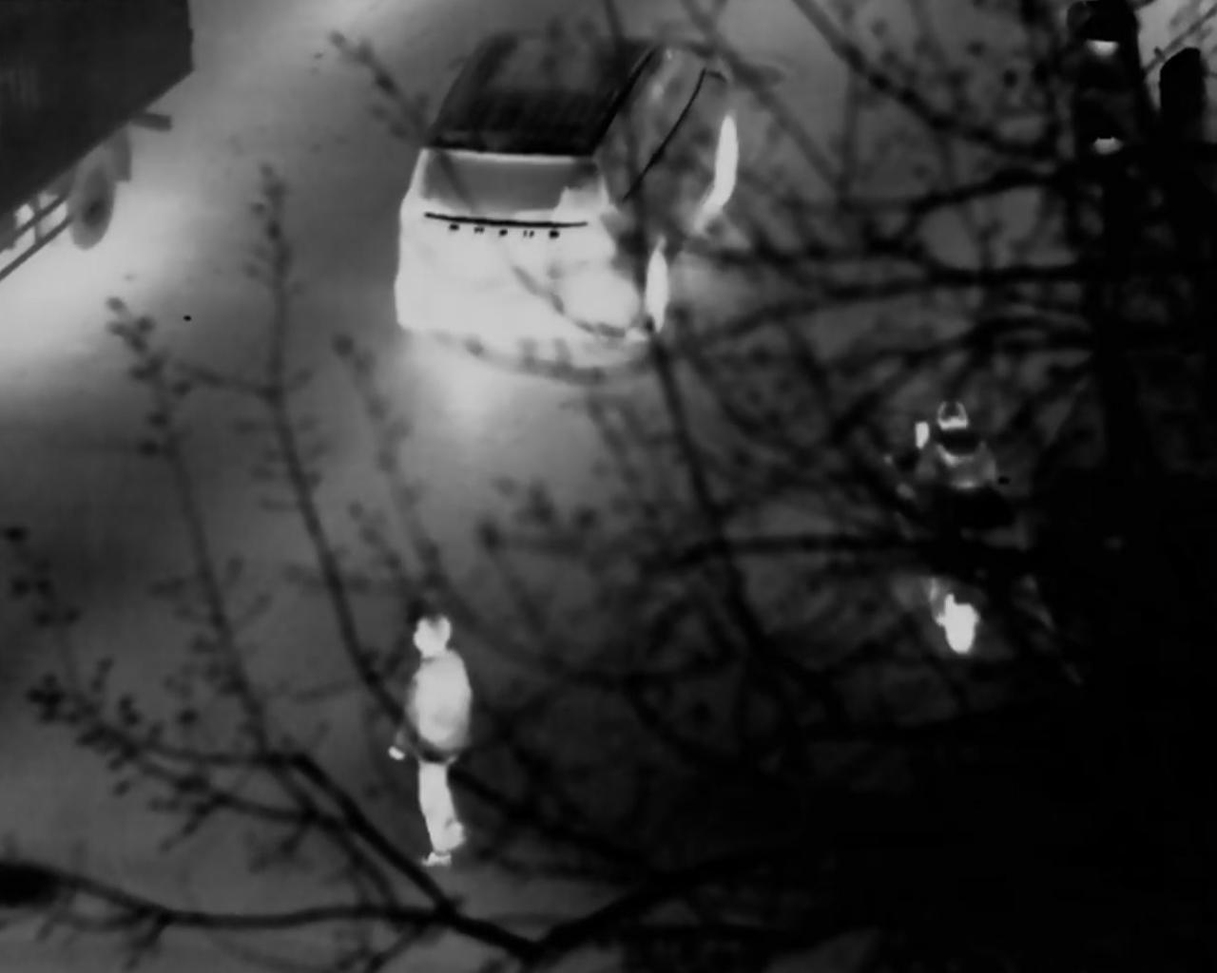person: (898, 395, 1008, 658), (388, 613, 477, 866)
